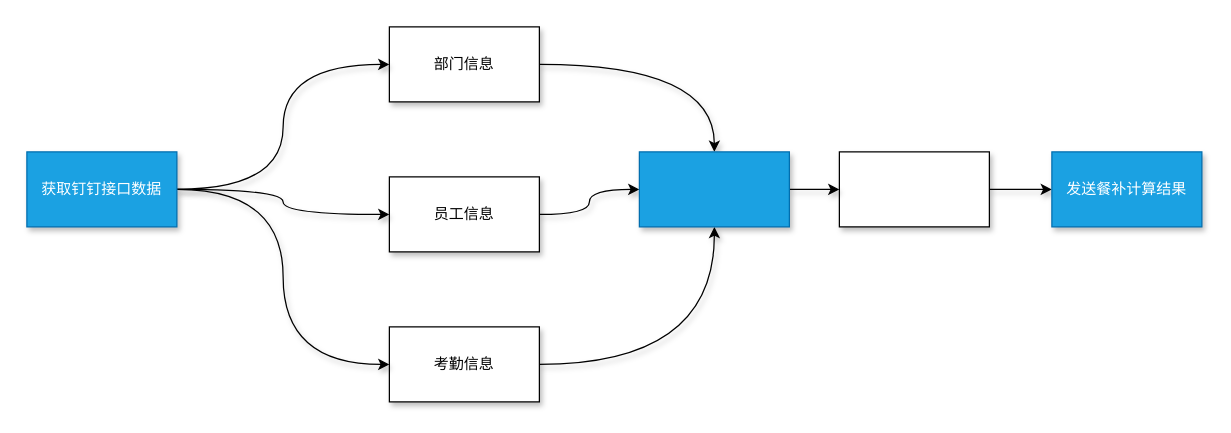
This 1231x433 diagram has some shape labels left out. The shapes that lost their labels are listed below. From the top down, each one's centre as x and y in pixels, then its label:
At pixel 715 191: "餐补计算".
At pixel 915 191: "餐补信息".
